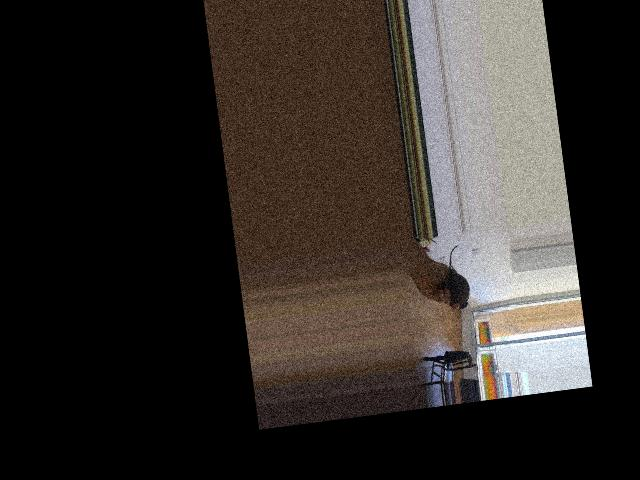beet: (442, 245, 471, 311)
